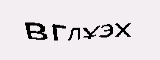В: (21, 19, 49, 41)
Г: (50, 21, 66, 42)
Л: (66, 26, 82, 43)
Х: (114, 20, 134, 39)
Э: (98, 22, 114, 38)
Ұ: (83, 23, 99, 41)
